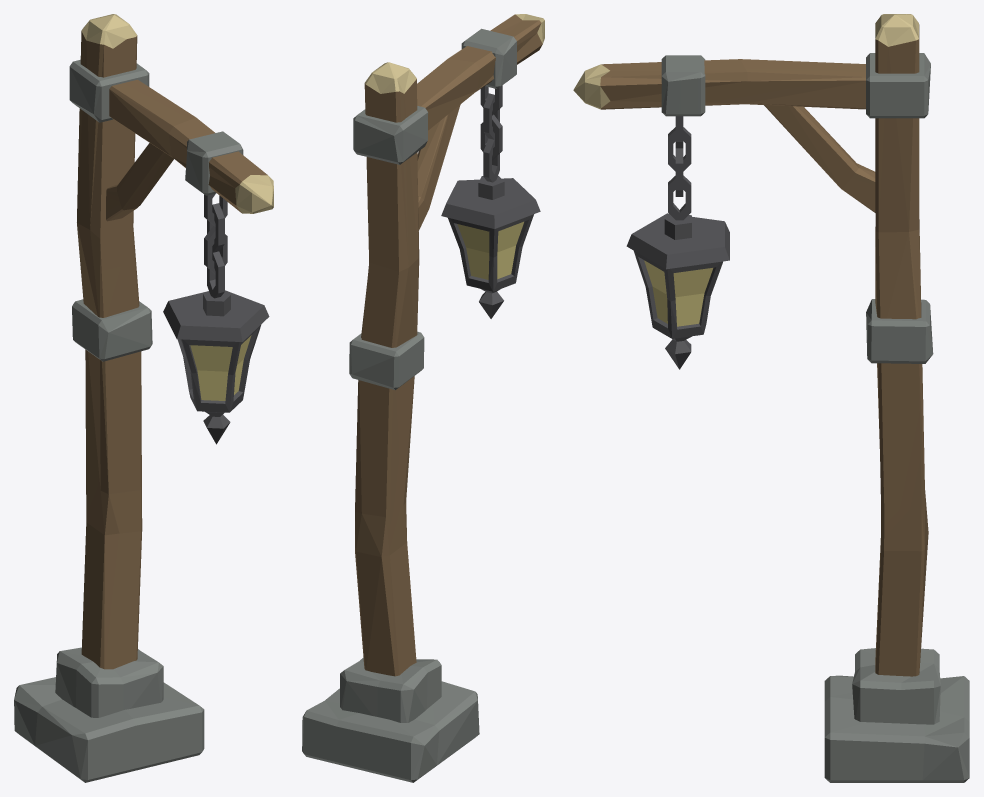
Rendered from SM_Prop_Lampost_01.gltf.
3 views of the same model, side by side, from view 1: azimuth 30°, elevation 25°; view 2: azimuth 150°, elevation 25°; view 3: azimuth 270°, elevation 25° (orthographic). The views are drawn at different scales.
Parts seen in each view (by area): view 1: SM_Prop_Lampost_01; view 2: SM_Prop_Lampost_01; view 3: SM_Prop_Lampost_01.
Part boxes in pixels (x1=…): SM_Prop_Lampost_01: x1=14, y1=14, x2=273, y2=782; SM_Prop_Lampost_01: x1=302, y1=14, x2=544, y2=782; SM_Prop_Lampost_01: x1=573, y1=14, x2=969, y2=782.
Bounding box in the file's own units: 0.7212 × 3.87 × 1.87.
Materials: 1 (1 with a texture image).
